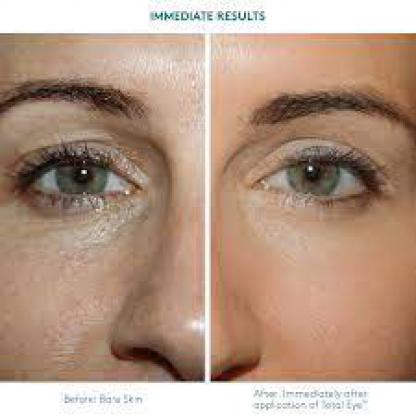wrinkle: (52, 301, 96, 357), (63, 231, 126, 265)
